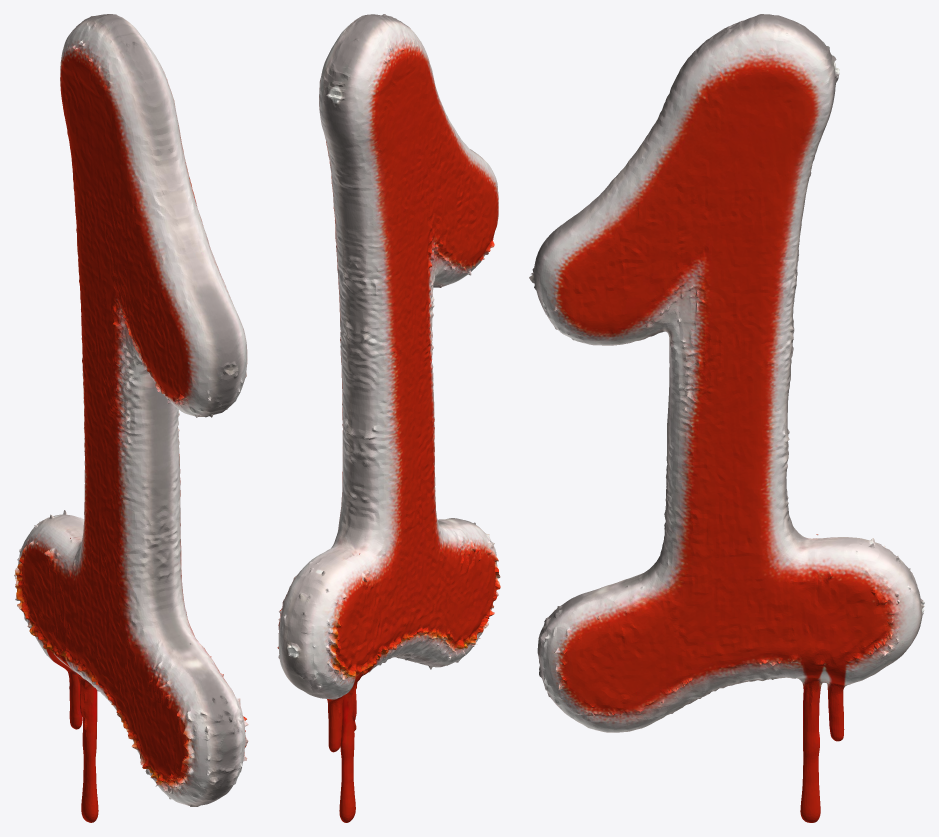
Rendered from tripo_convert_1f615a22-0c32-4adc-9349-017f44c29d52.obj.
3 renders of one model, left to right at view 1: azimuth 30°, elevation 25°; view 2: azimuth 150°, elevation 25°; view 3: azimuth 270°, elevation 25°, orthographic. The views are drawn at different scales.
Parts seen in each view (by area): view 1: tripo_node_1f615a22-0c32-4adc-9349-017f44c29d52; view 2: tripo_node_1f615a22-0c32-4adc-9349-017f44c29d52; view 3: tripo_node_1f615a22-0c32-4adc-9349-017f44c29d52.
Part boxes in pixels (box(x1,y1,x2,y2)): tripo_node_1f615a22-0c32-4adc-9349-017f44c29d52: box(14, 14, 248, 822); tripo_node_1f615a22-0c32-4adc-9349-017f44c29d52: box(277, 14, 500, 822); tripo_node_1f615a22-0c32-4adc-9349-017f44c29d52: box(529, 14, 924, 822).
Bounding box in the file's own units: 0.0858 × 1 × 0.4453.
Materials: 1 (1 with a texture image).
